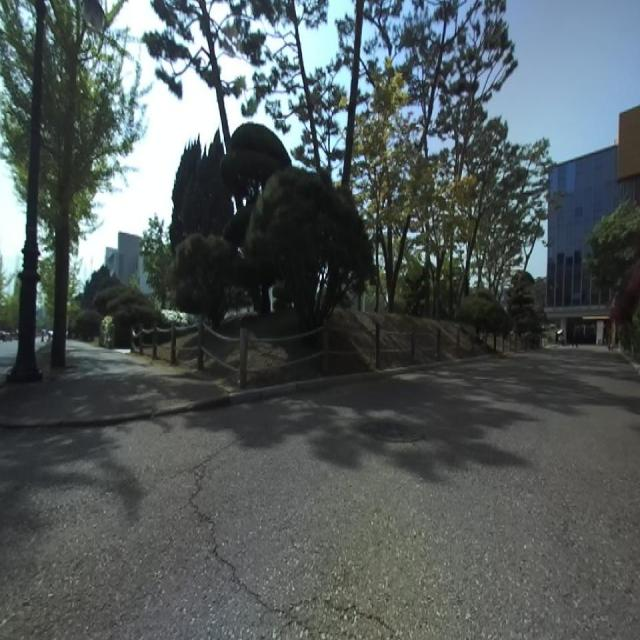sidewalk: (0, 342, 224, 420)
